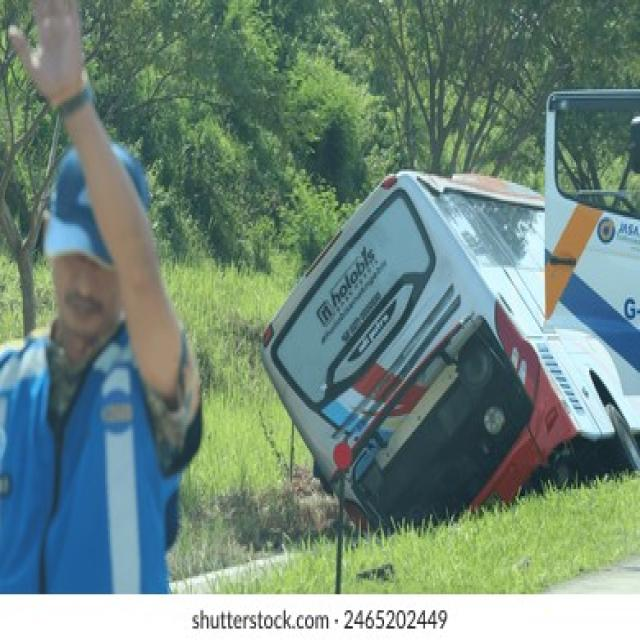Accident: (254, 165, 640, 528)
